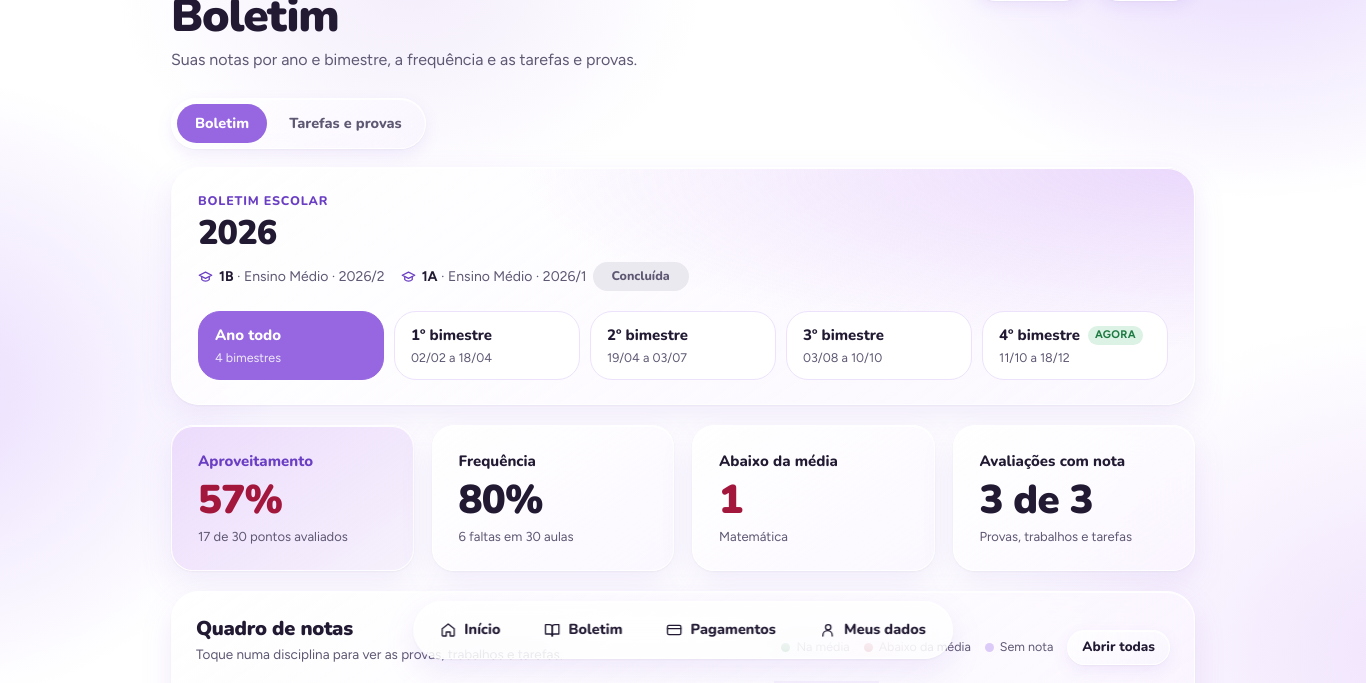
Boletim por ano e bimestre › o bimestre escolhido muda o resumo, a situação e as avaliações da disciplina
This screenshot has width=1366, height=683.
Check: the element named "Resumo do boletim" is shown, box left=171, top=426, right=1195, bottom=572
Step 1. Click the button "3º bimestre 03/08 a 10/10" → [879, 346], box left=786, top=311, right=972, bottom=380
(page scrolled)
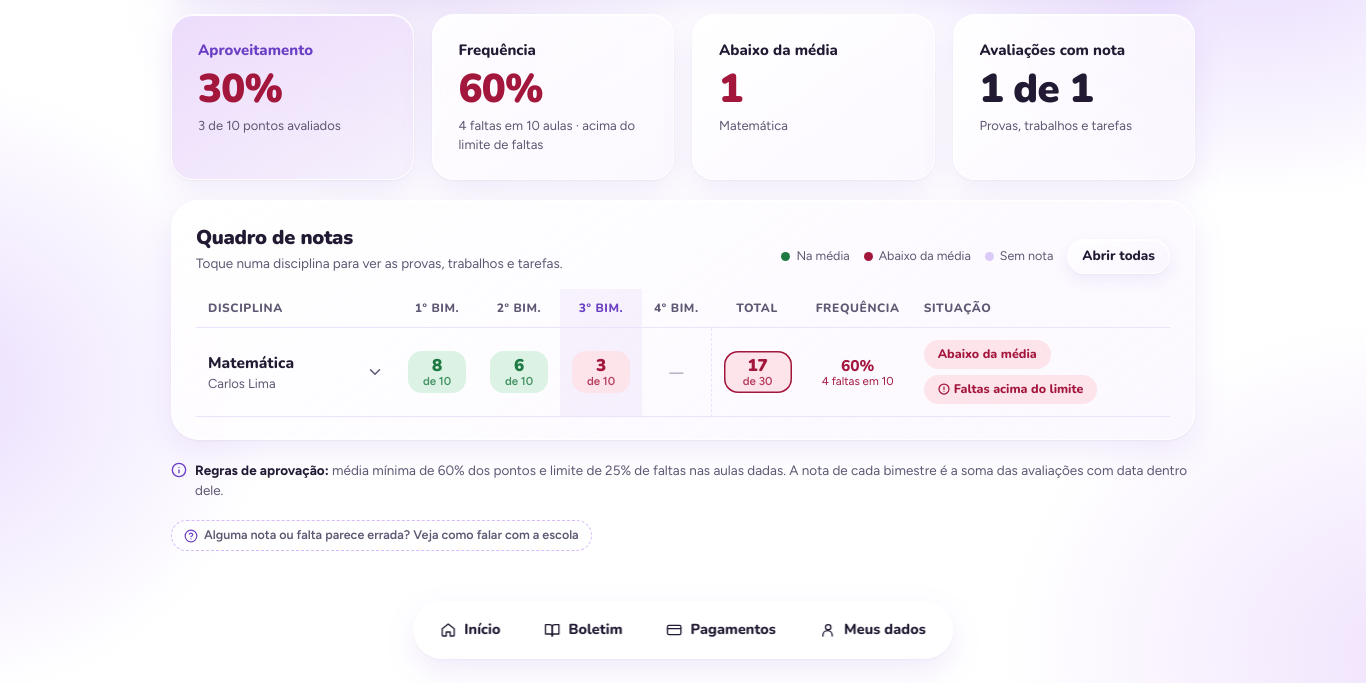
Check: the text "30%" is shown, box left=198, top=62, right=282, bottom=116
Check: the text "3 de 10 pontos avaliados" is shown, box left=198, top=118, right=341, bottom=133
Check: the text "4 faltas em 10 aulas · acima do limite de faltas" is shown, box left=458, top=116, right=647, bottom=155
Step 2. Click the button "Matemática Carlos Lima" → [296, 372], box left=208, top=351, right=384, bottom=393
(page scrolled)
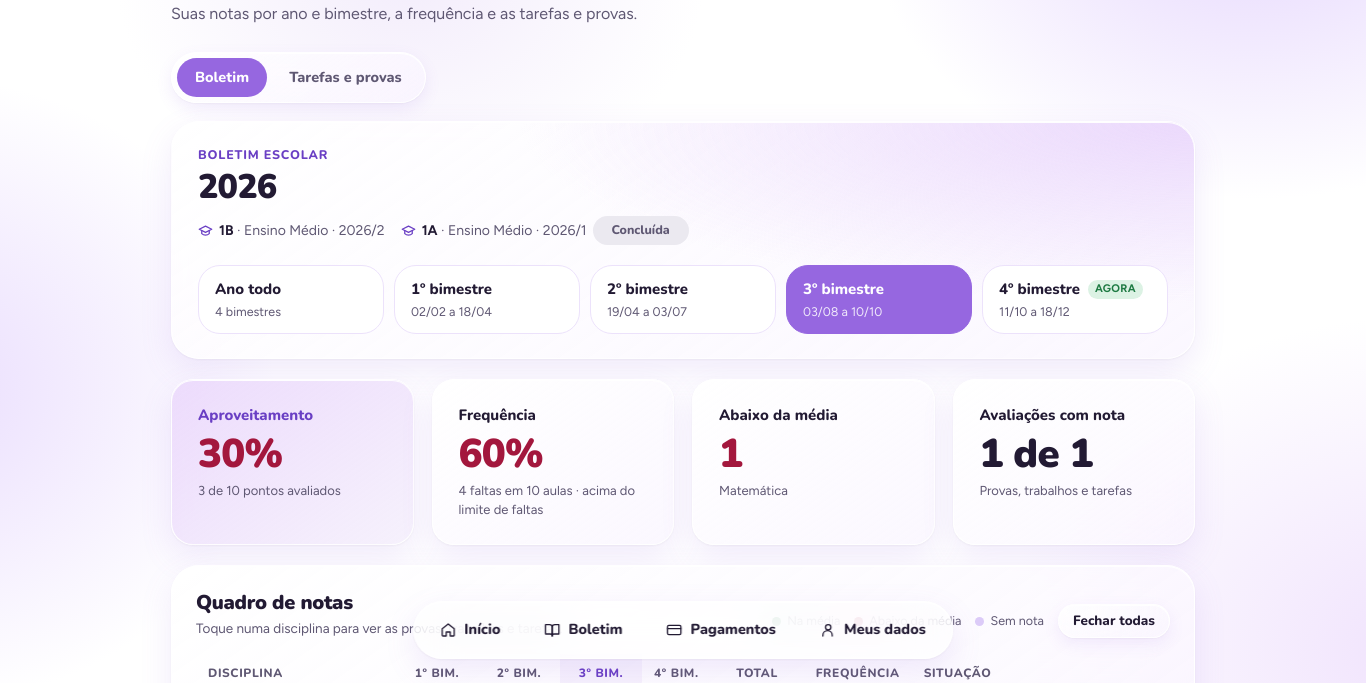
Check: the text "Prova 1" is not shown
Step 3. Click the button "Ano todo 4 bimestres" → [291, 300], box left=198, top=265, right=384, bottom=334
(page scrolled)
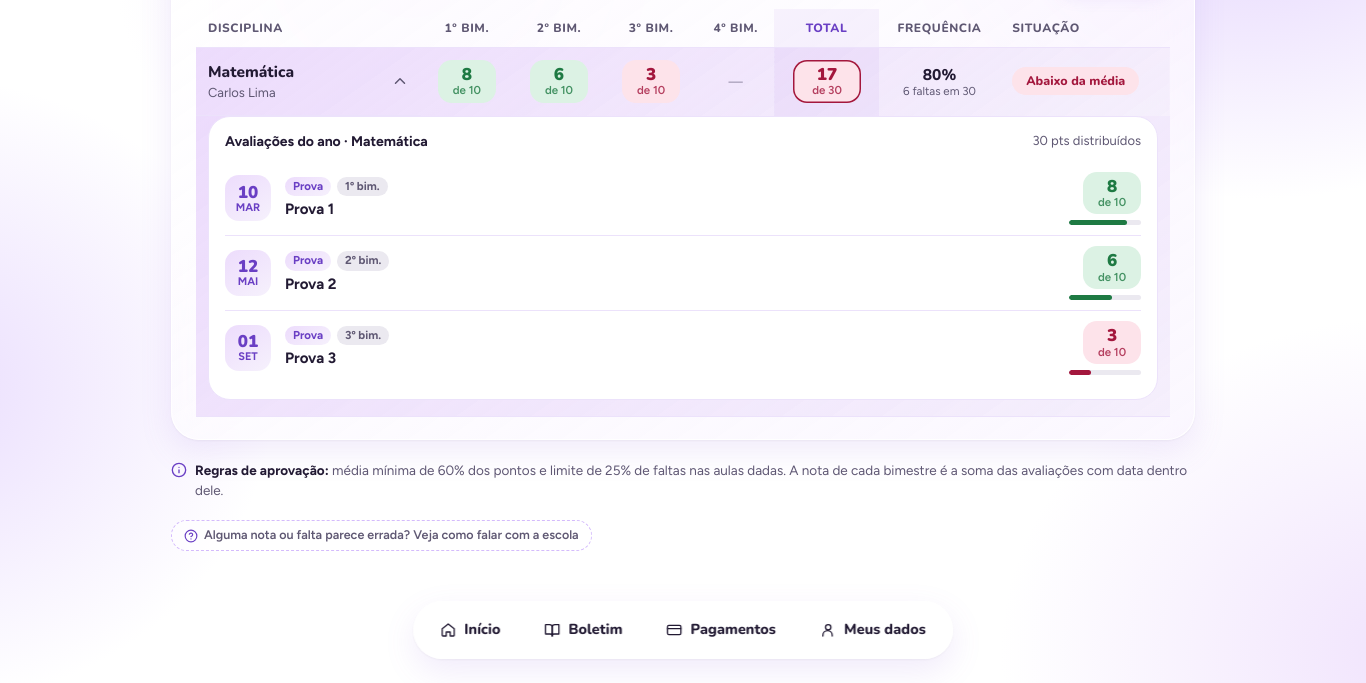
Check: the text "Prova 3" is shown, box left=285, top=349, right=336, bottom=367
Check: the text "Avaliações do ano · Matemática" is shown, box left=225, top=130, right=428, bottom=152
Check: the text "Prova 1" is shown, box left=285, top=200, right=334, bottom=218
